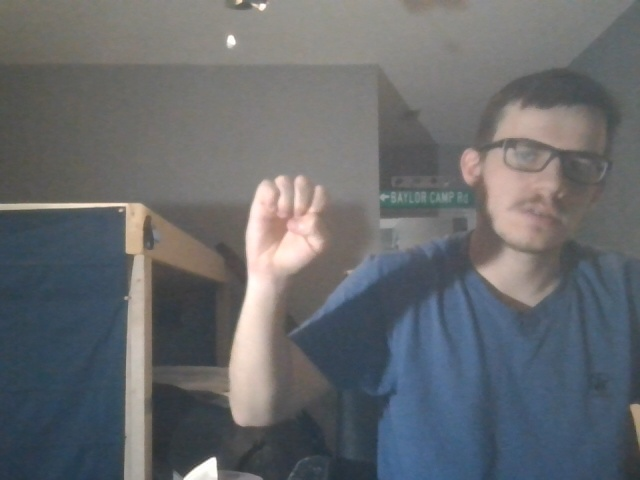E: (240, 174, 346, 289)
